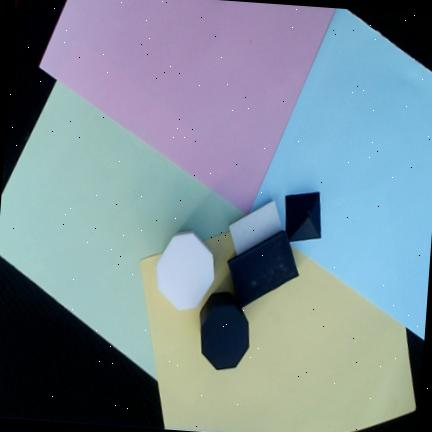Paralelepipedo: (227, 230, 298, 308), (228, 200, 281, 254)
Piramide: (284, 192, 320, 242)
Prisma_hexagonal: (156, 230, 214, 311), (199, 291, 249, 370)
